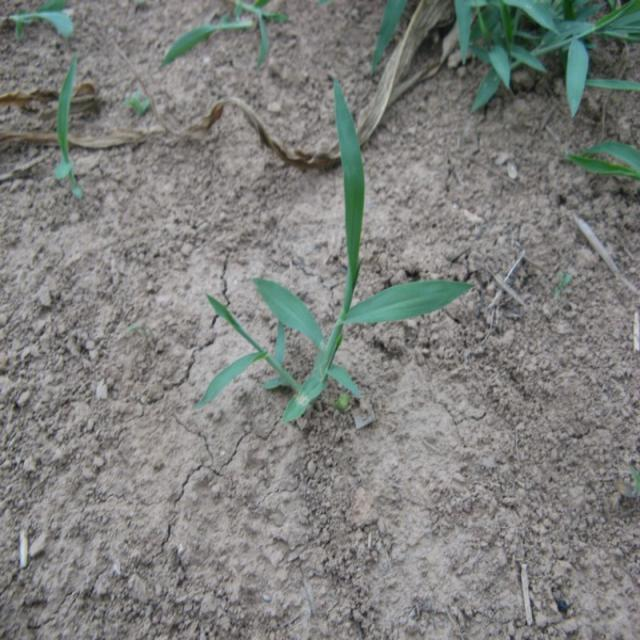bg: (195, 76, 465, 427)
